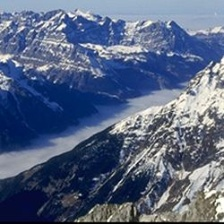neutral: (2, 1, 223, 220)
